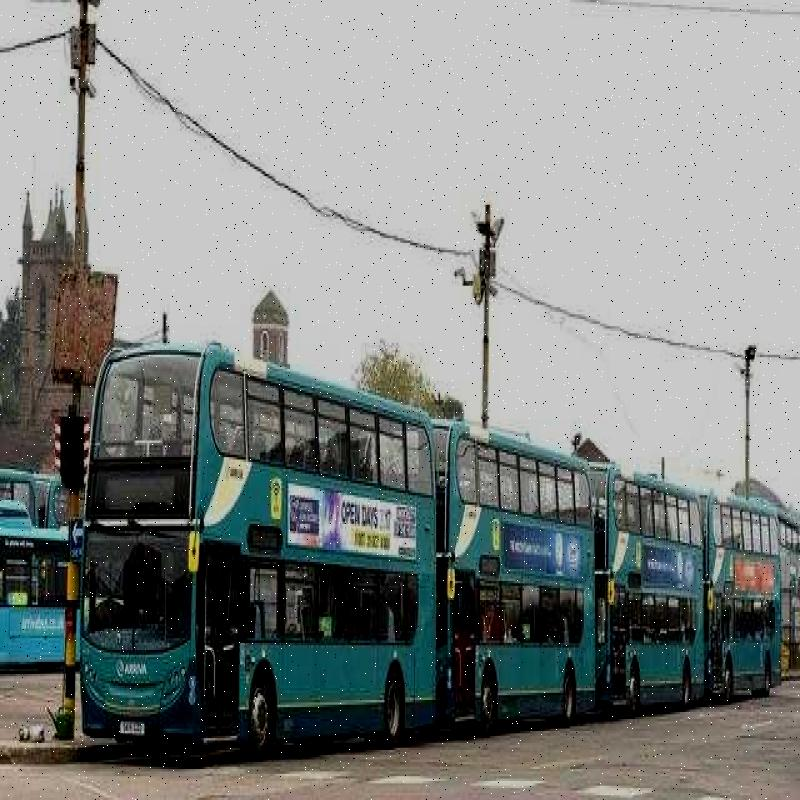bus: (91, 317, 438, 770), (441, 380, 588, 750), (598, 431, 698, 754), (708, 482, 792, 720)
